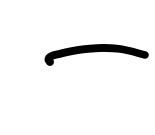minus: (44, 44, 149, 66)
